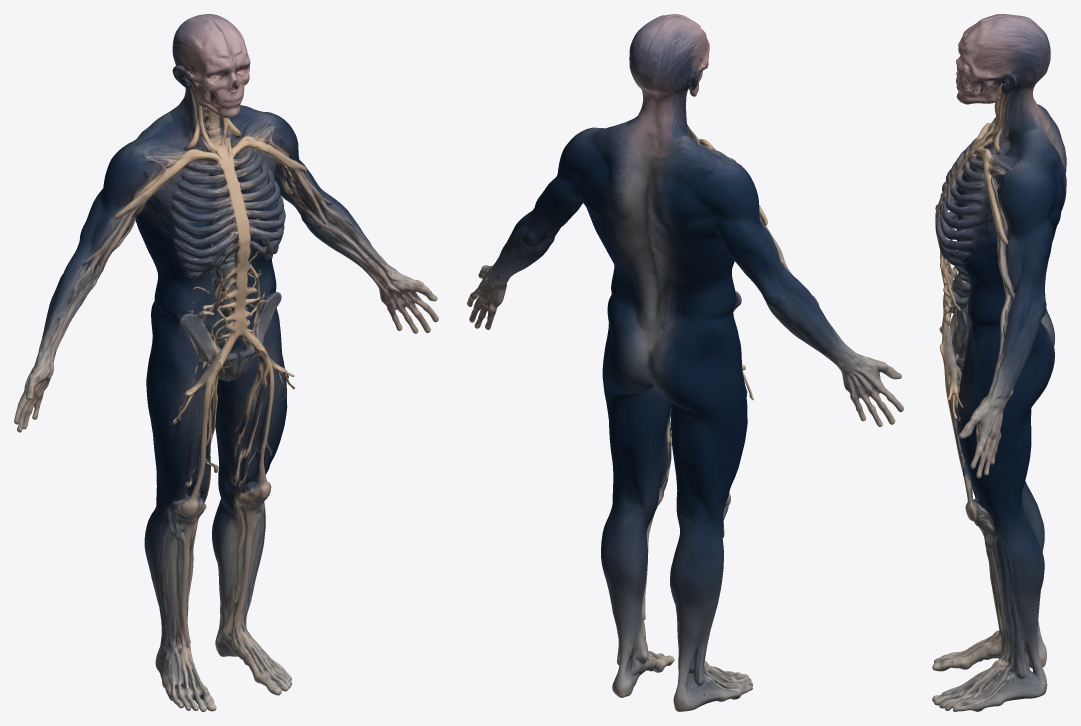
Rendered from nervous-system-v3.glb.
3 renders of one model, left to right at view 1: azimuth 30°, elevation 25°; view 2: azimuth 150°, elevation 25°; view 3: azimuth 270°, elevation 25°, orthographic. The views are drawn at different scales.
Visible parts, largest first — view 1: tripo_node_2ba0340d-aea6-4131-abb9-8ece6757de97; view 2: tripo_node_2ba0340d-aea6-4131-abb9-8ece6757de97; view 3: tripo_node_2ba0340d-aea6-4131-abb9-8ece6757de97.
Part boxes in pixels (x1,y1,x2,y2): tripo_node_2ba0340d-aea6-4131-abb9-8ece6757de97: (14,14,438,711); tripo_node_2ba0340d-aea6-4131-abb9-8ece6757de97: (467,14,903,711); tripo_node_2ba0340d-aea6-4131-abb9-8ece6757de97: (932,14,1066,711).
Bounding box in the file's own units: 0.6726 × 0.9999 × 0.182.
1 material, 1 textured.
